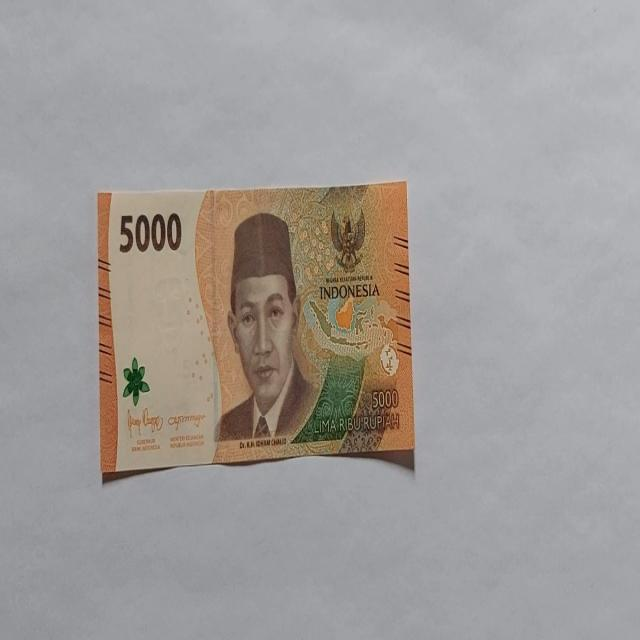lima ribu rupiah: (97, 181, 414, 479), (212, 211, 318, 446)
